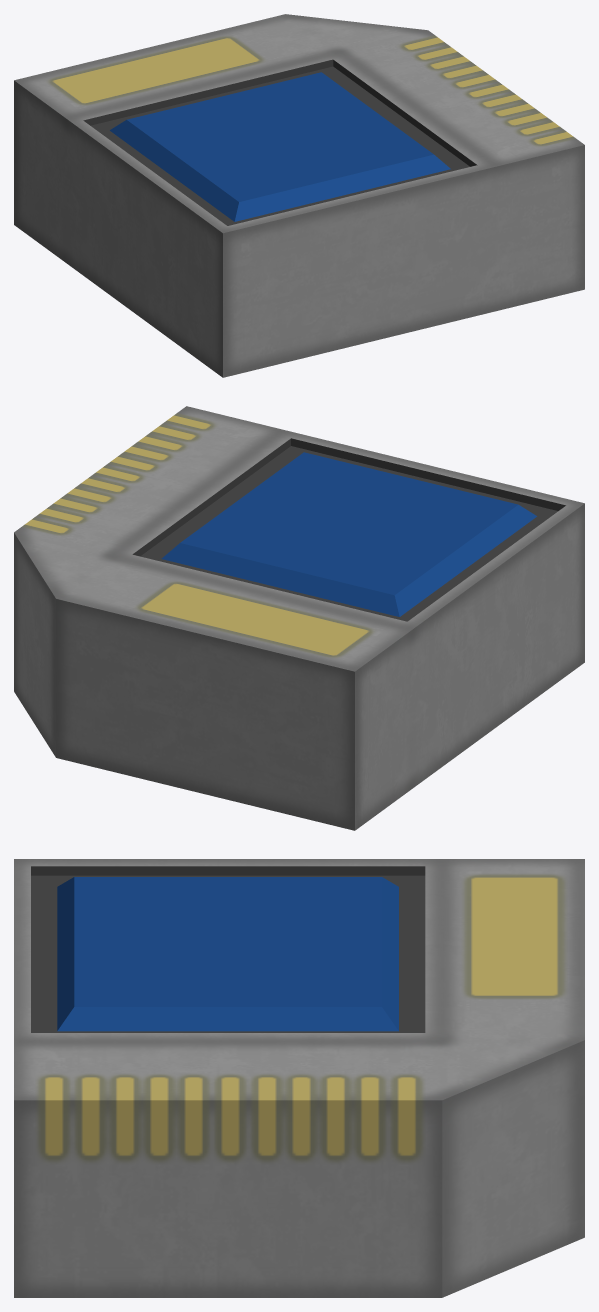
Rendered from Pickup.fbx.
3 views of the same model, one above another, from view 1: azimuth 30°, elevation 25°; view 2: azimuth 150°, elevation 25°; view 3: azimuth 270°, elevation 25° (orthographic). The views are drawn at different scales.
Visible parts, largest first — view 1: Pickup; view 2: Pickup; view 3: Pickup.
Boxes of the visible parts, box(x1,y1,x2,y2) form: Pickup: box(14, 14, 584, 377); Pickup: box(14, 406, 584, 830); Pickup: box(14, 859, 584, 1297).
Size of the model in its own units: 1.57 by 0.6235 by 1.57.
